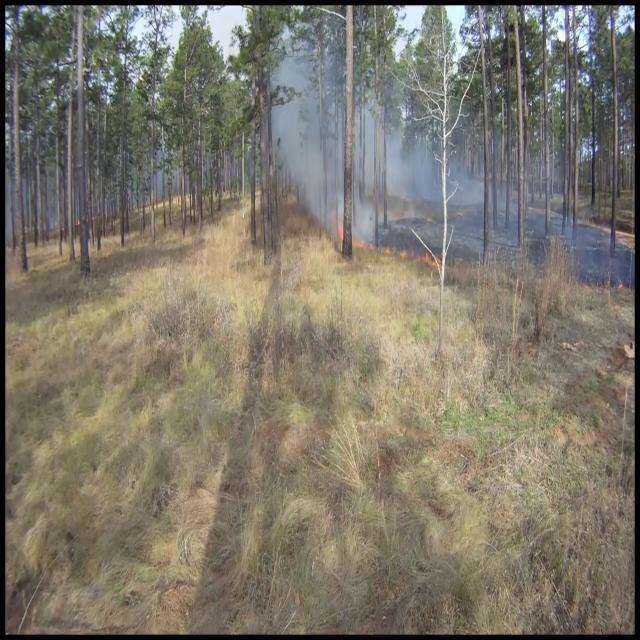Smoke: (268, 52, 472, 242)
